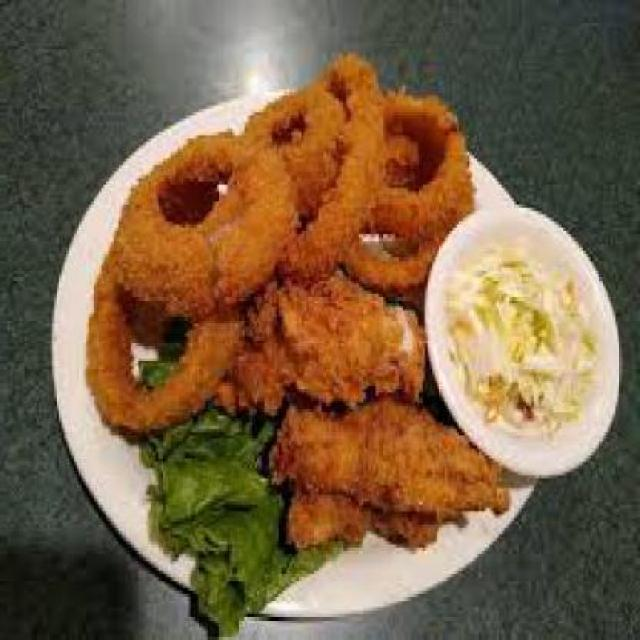chicken wings: (240, 284, 494, 538)
onion rings: (79, 43, 495, 435)
